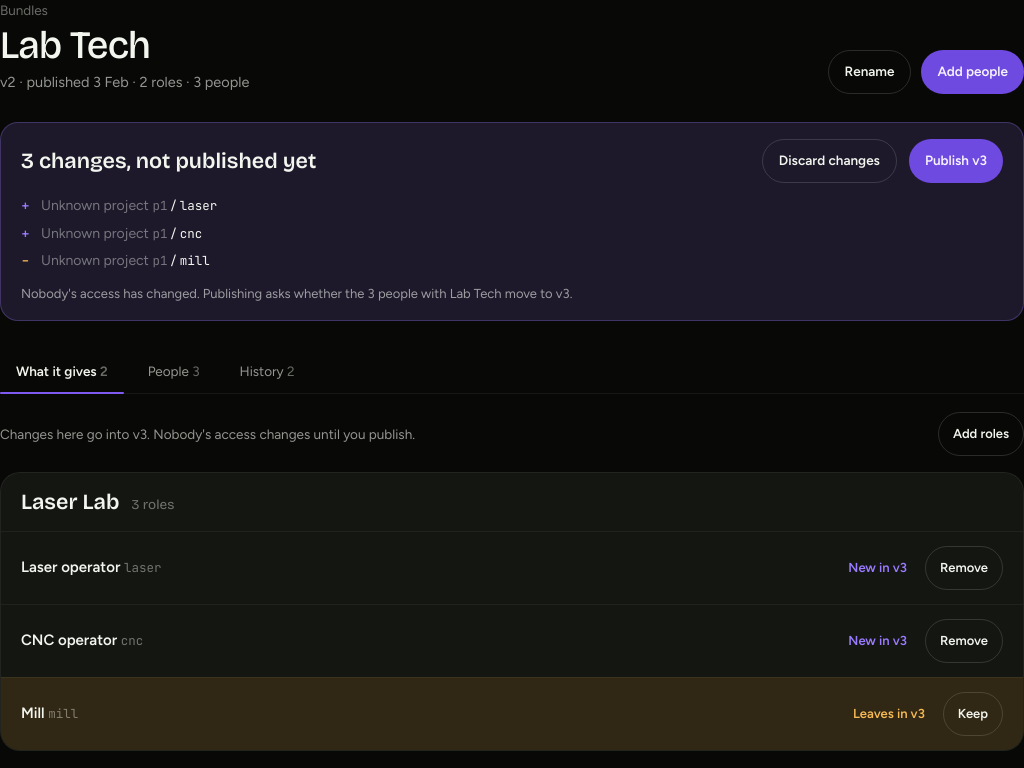
Test: a bundle's page › says so when discarding fails, and keeps the button
Click the button "Discard changes". click: (829, 161)
box: [762,139,897,183]
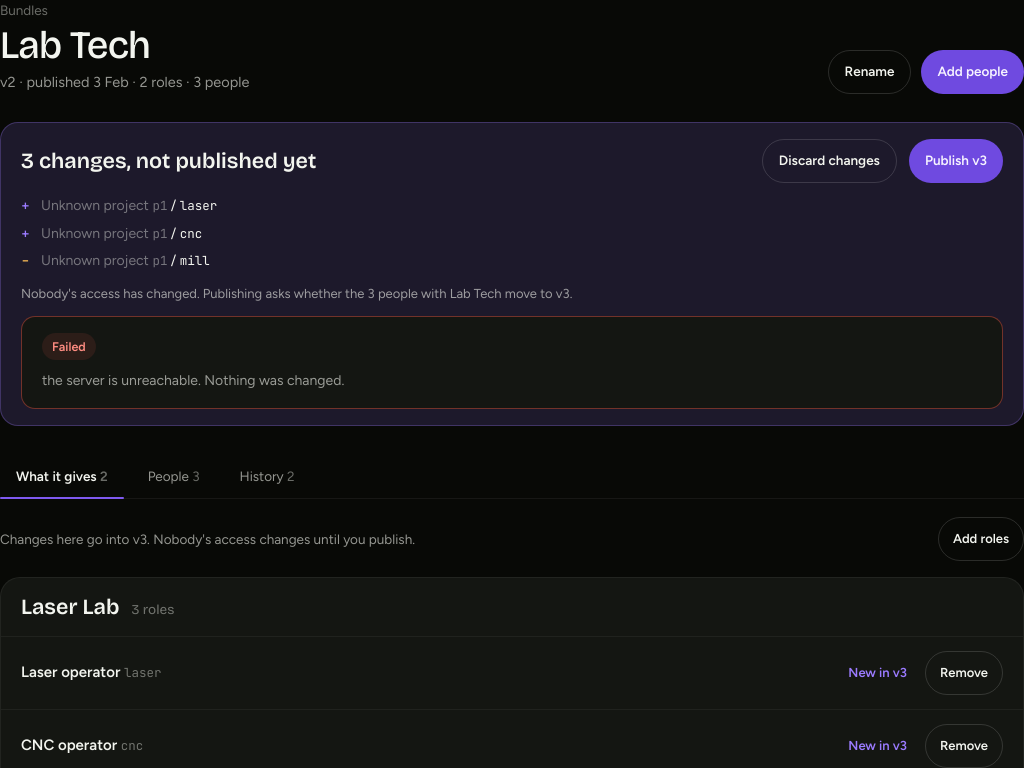
Expected: the text "unreachable" is shown, [42,372,201,389]
